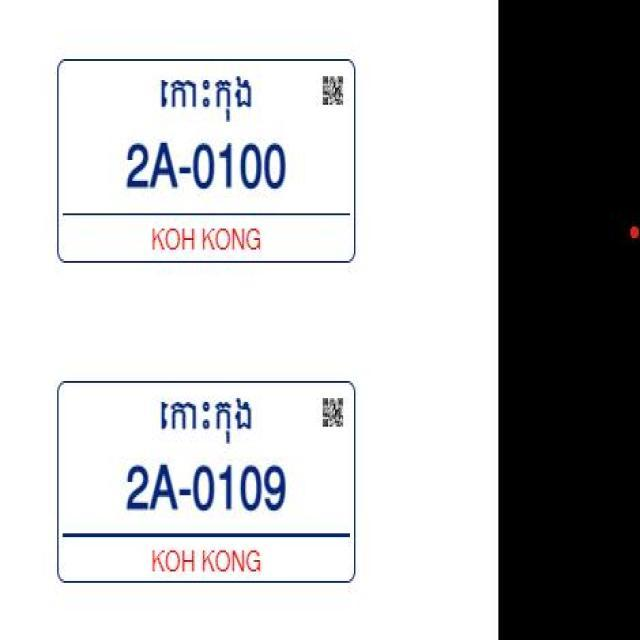Koh_Kong: (149, 387, 260, 454), (157, 69, 263, 130)
